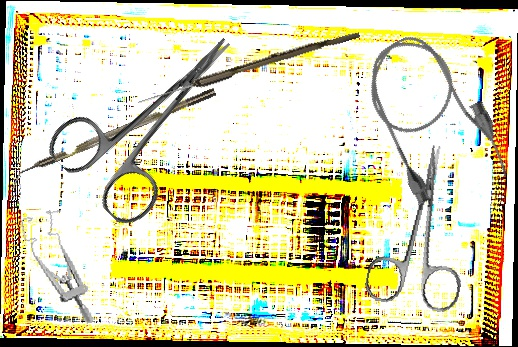Cannula: (349, 19, 517, 216)
Chopper: (6, 87, 221, 190)
Iris Scissors: (41, 0, 274, 234), (362, 136, 487, 316)
Speculum: (19, 205, 96, 334)
Surgical Spoon: (136, 26, 361, 109)
